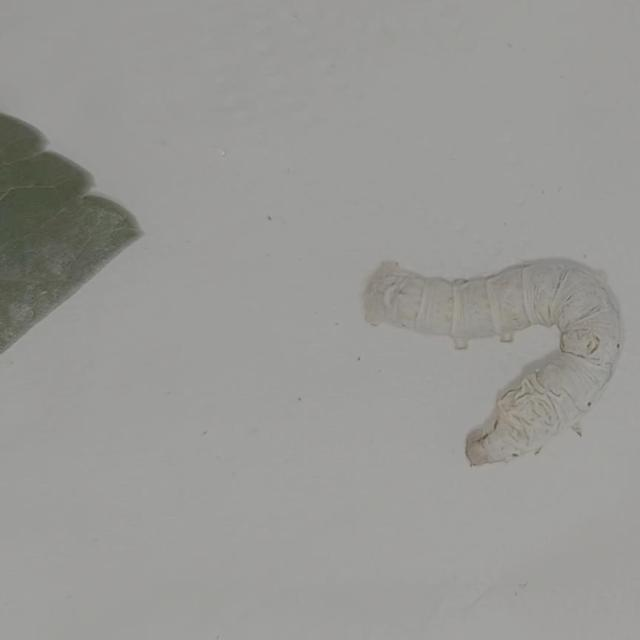Healthy: (336, 203, 640, 494)
